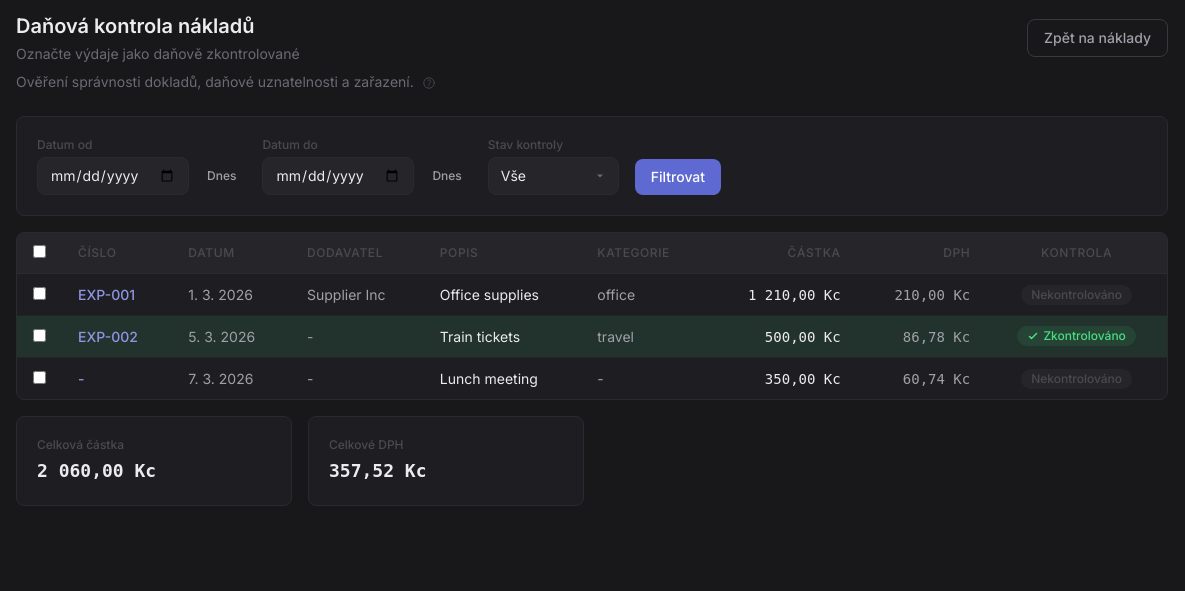
Test: Expense Tax Review › select all checkbox toggles all rows
This screenshot has width=1185, height=591.
expect the text "Office supplies" is shown: met, box [424, 274, 581, 316]
Click the checkbox titled "Vybrat vše": coordinates (40, 252) [33, 245, 46, 258]
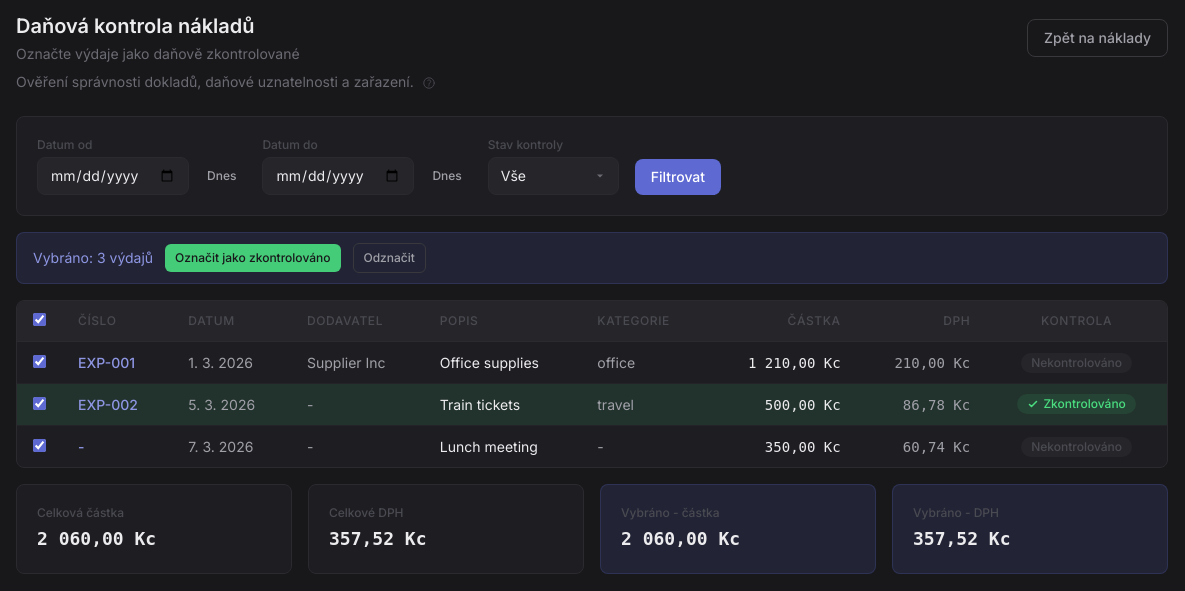
expect the text "Vybráno: 3 výdajů" is shown: met, box [33, 248, 153, 268]
